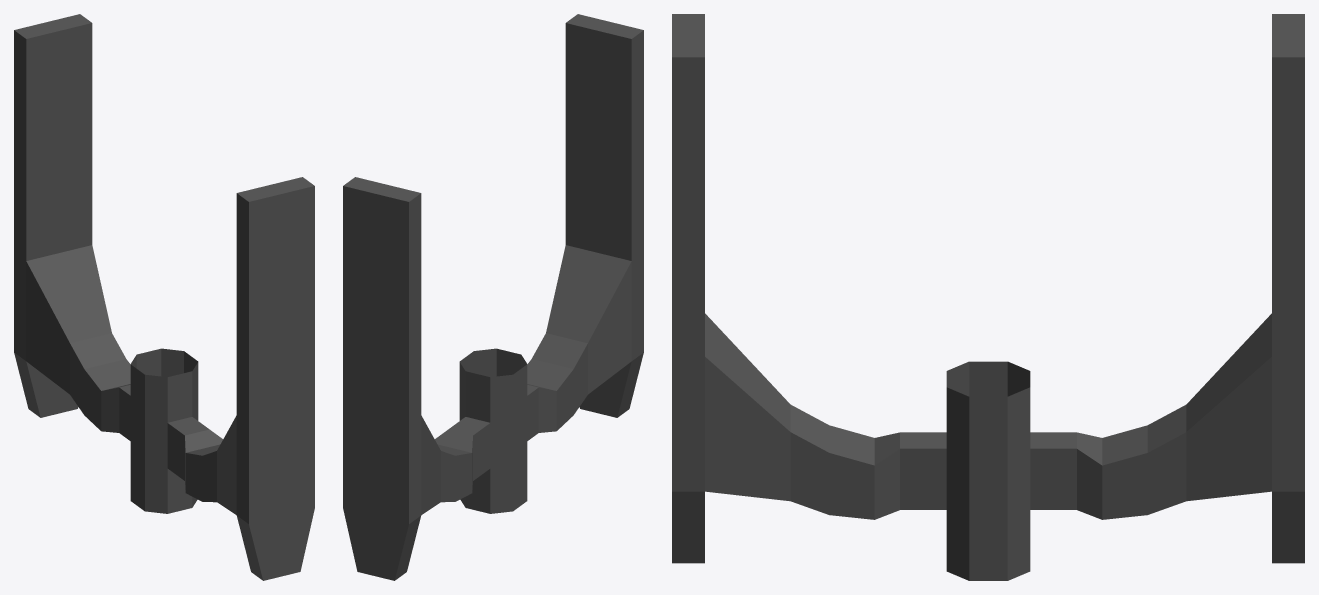
File: recycler_rotor.obj
3 views of the same model, side by side, from view 1: azimuth 30°, elevation 25°; view 2: azimuth 150°, elevation 25°; view 3: azimuth 270°, elevation 25° (orthographic). The views are drawn at different scales.
Visible parts, largest first — view 1: recycler_rotor; view 2: recycler_rotor; view 3: recycler_rotor.
Part boxes in pixels (x1,y1,x2,y2): recycler_rotor: (14, 14, 314, 580); recycler_rotor: (343, 14, 643, 580); recycler_rotor: (672, 14, 1304, 580).
Size of the model in its own units: 8.58 by 48.64 by 52.87.
1 material, 1 textured.
